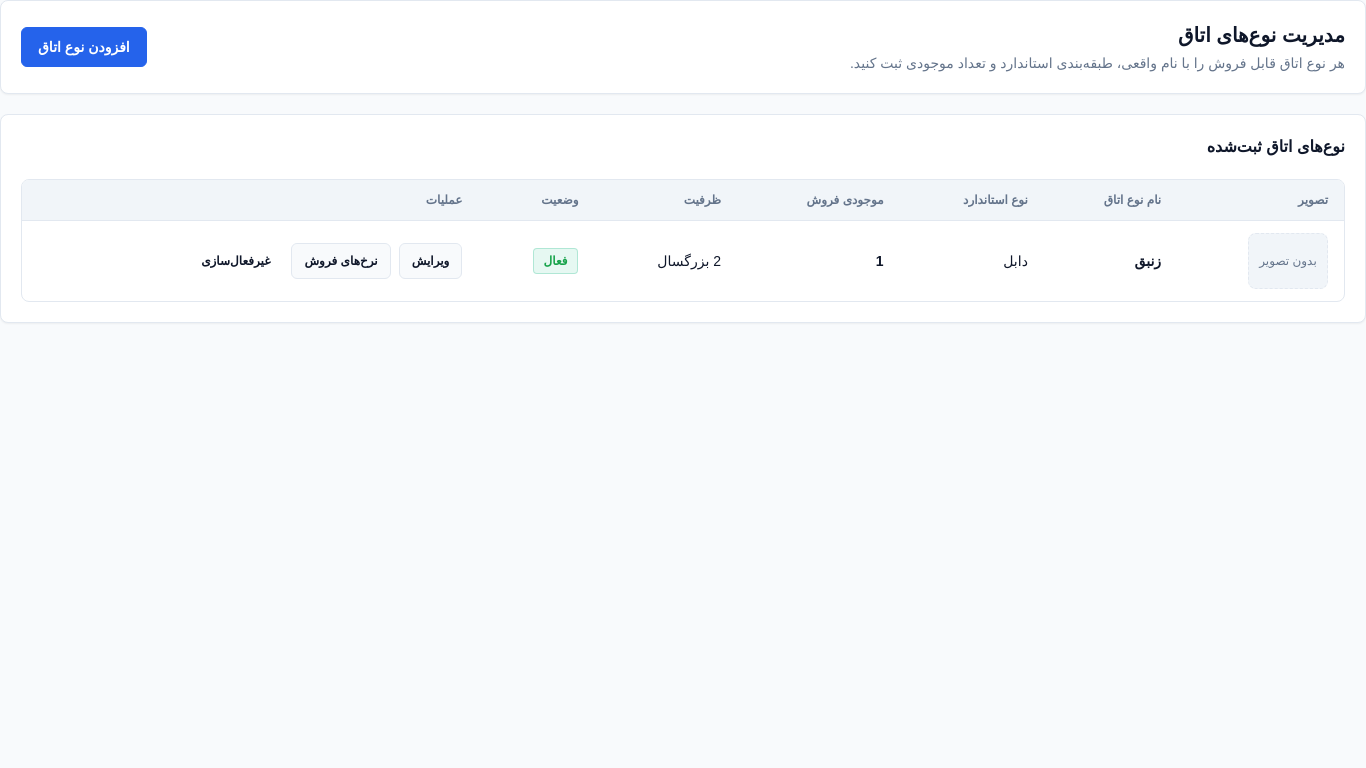
Test: RoomType RatePlan management › renders signed relationships, meal names, minimum nights and active state
Click the button "نرخ‌های فروش".
click(341, 261)  # box [292,243,391,279]
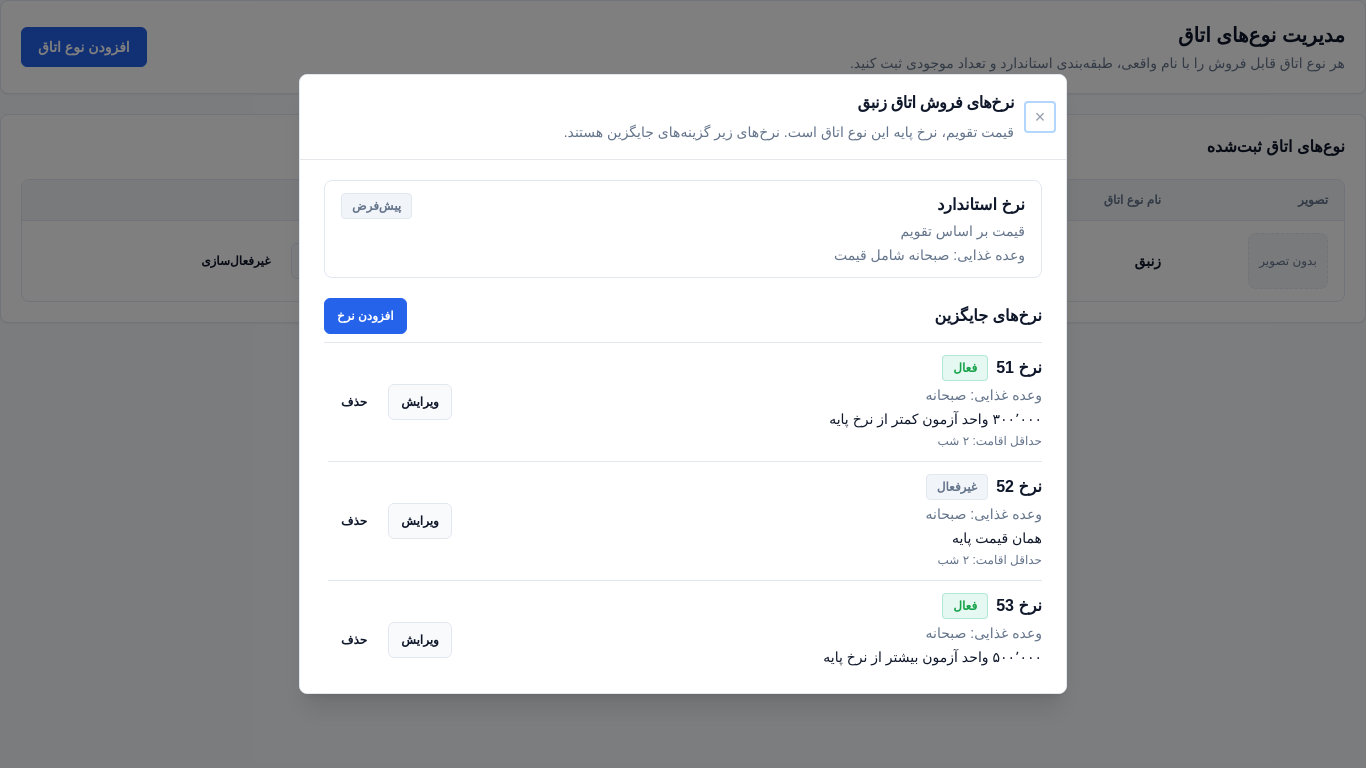
expect the text "۳۰۰٬۰۰۰ واحد آزمون کمتر از نرخ پایه" is shown: met, box [829,411,1042,427]
expect the text "همان قیمت پایه" is shown: met, box [952,530,1042,546]
expect the text "۵۰۰٬۰۰۰ واحد آزمون بیشتر از نرخ پایه" is shown: met, box [823,649,1042,665]
